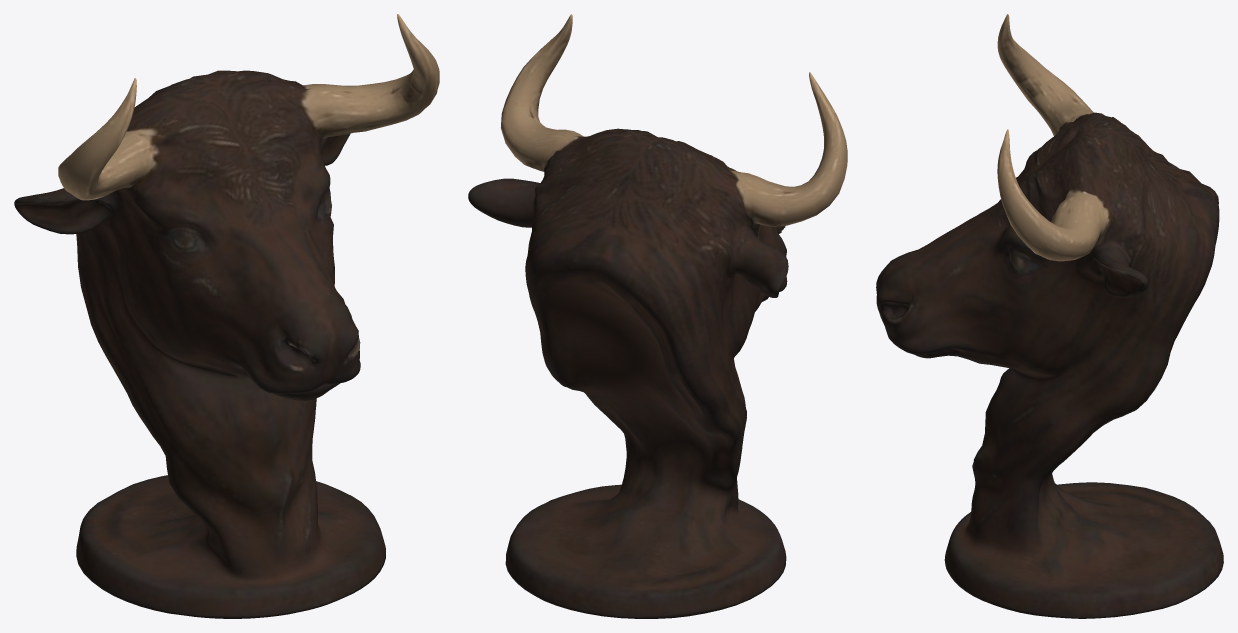
File: bull_head.glb
3 views of the same model, side by side, from view 1: azimuth 30°, elevation 25°; view 2: azimuth 150°, elevation 25°; view 3: azimuth 270°, elevation 25° (orthographic). The views are drawn at different scales.
Parts seen in each view (by area): view 1: bull_head; view 2: bull_head; view 3: bull_head.
Boxes of the visible parts, <box> form: bull_head: <box>14,14,439,618</box>; bull_head: <box>468,14,847,618</box>; bull_head: <box>876,14,1223,618</box>.
Size of the model in its own units: 0.3064 by 0.433 by 0.2807.
Materials: 1 (1 with a texture image).
